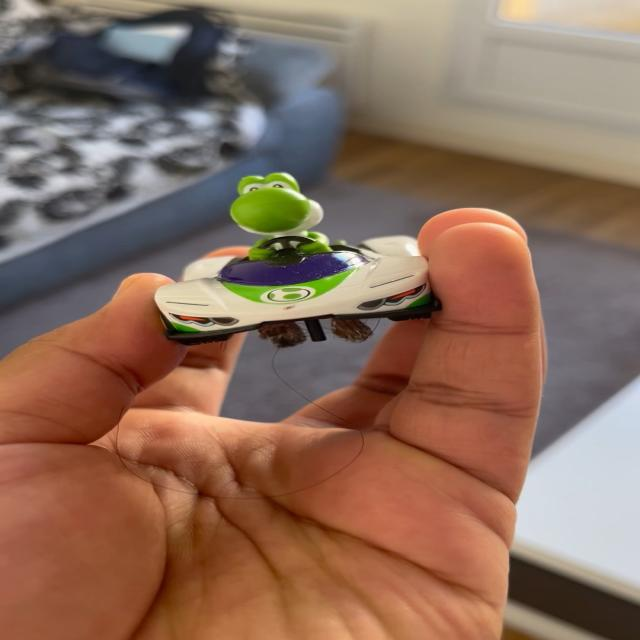yoshi: (136, 159, 454, 341)
